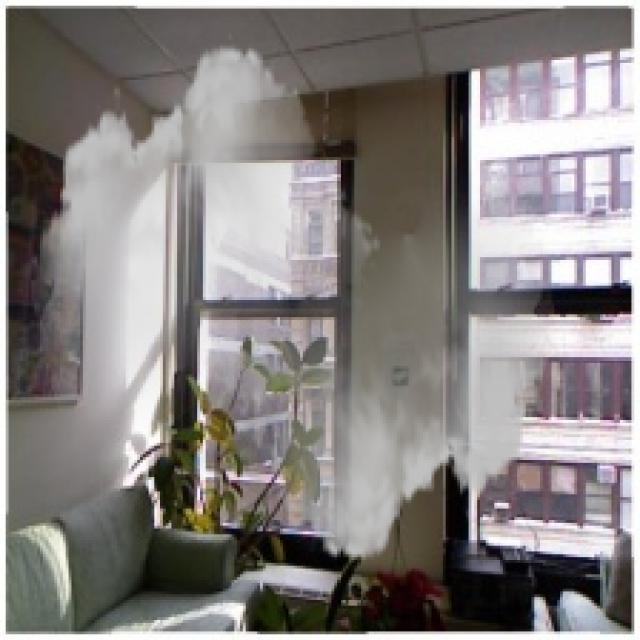smoke: (32, 29, 554, 577)
